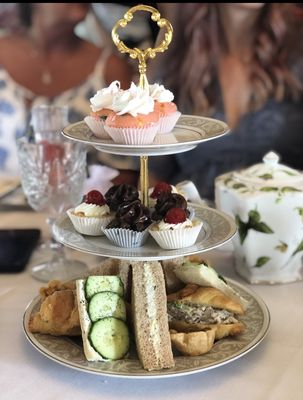pizza: (17, 131, 88, 215)
